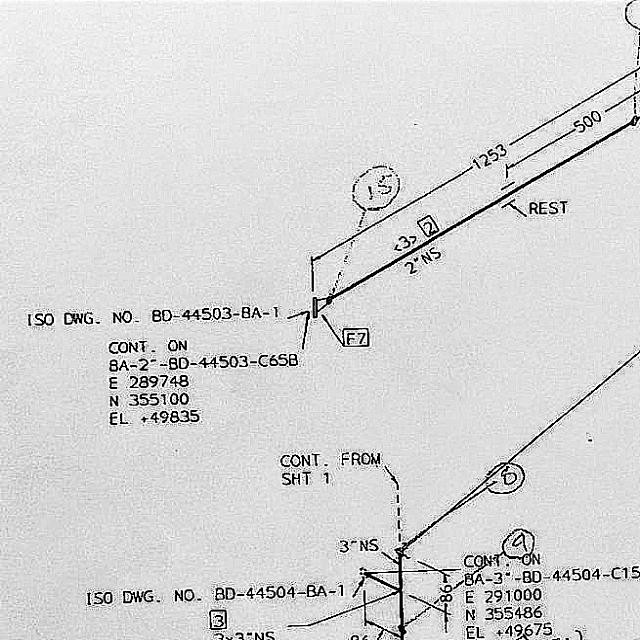Item number: (414, 210, 441, 238), (340, 325, 371, 348), (208, 607, 228, 632)
Measrement: (314, 57, 638, 261), (435, 568, 454, 636), (337, 537, 382, 556)
Pipeline: (332, 110, 639, 303)
Weld number: (350, 163, 404, 216), (481, 459, 527, 496), (500, 526, 538, 563), (622, 0, 639, 33)
other: (106, 337, 300, 429), (466, 559, 639, 639), (84, 582, 345, 608), (28, 301, 273, 325), (278, 449, 385, 489), (524, 197, 571, 219)
